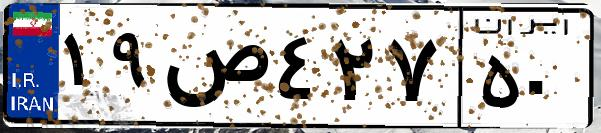0: (525, 38, 570, 115)
1: (57, 26, 110, 100)
2: (330, 28, 385, 110)
4: (270, 28, 330, 110)
5: (475, 38, 525, 113)
7: (385, 28, 445, 110)
9: (110, 28, 158, 98)
ص: (158, 20, 270, 120)
